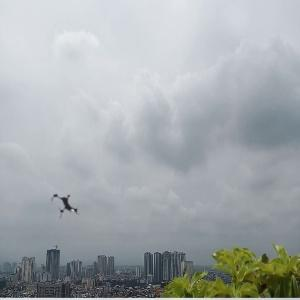drone: (40, 181, 92, 233)
